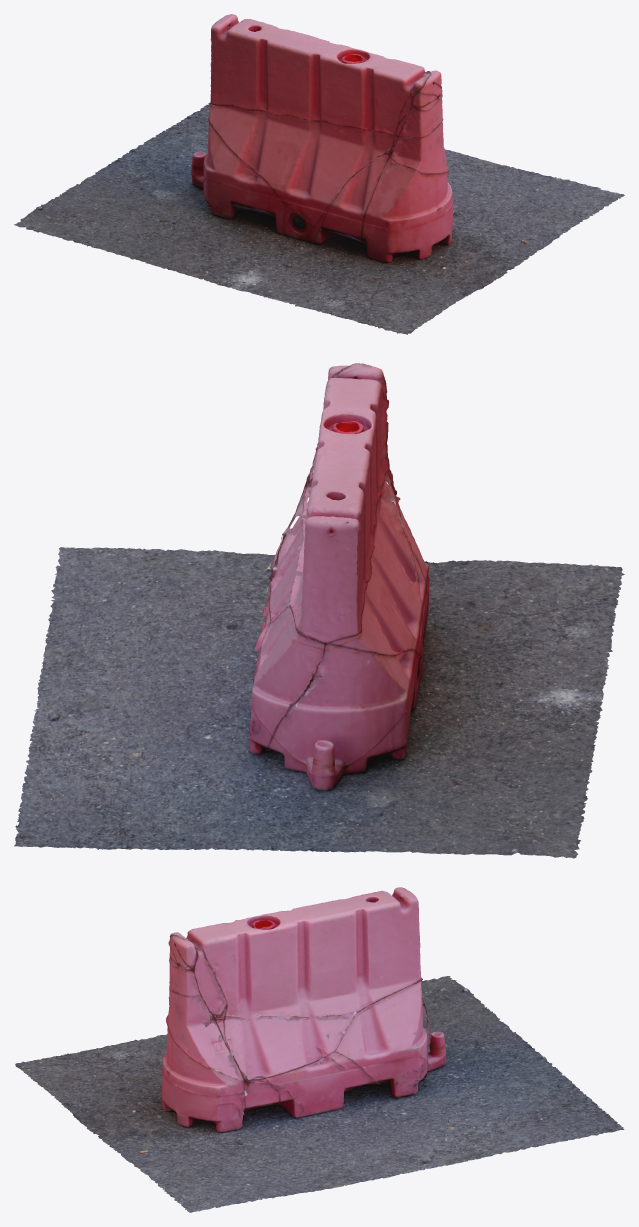
File: TrafficBarrier.glb
3 renders of one model, top to bottom at view 1: azimuth 30°, elevation 25°; view 2: azimuth 150°, elevation 25°; view 3: azimuth 270°, elevation 25°, orthographic. The views are drawn at different scales.
Parts seen in each view (by area): view 1: meshNode; view 2: meshNode; view 3: meshNode.
Boxes of the visible parts, left/top/right/bottom form: meshNode: left=14, top=14, right=624, bottom=334; meshNode: left=14, top=363, right=624, bottom=858; meshNode: left=15, top=887, right=624, bottom=1212.
Size of the model in its own units: 10.85 by 3.85 by 11.61.
Materials: 1 (1 with a texture image).
